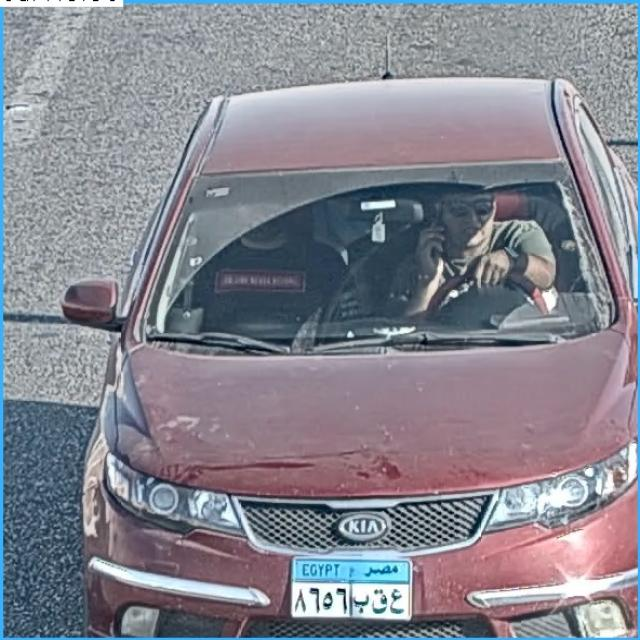windshield: (148, 176, 621, 340)
